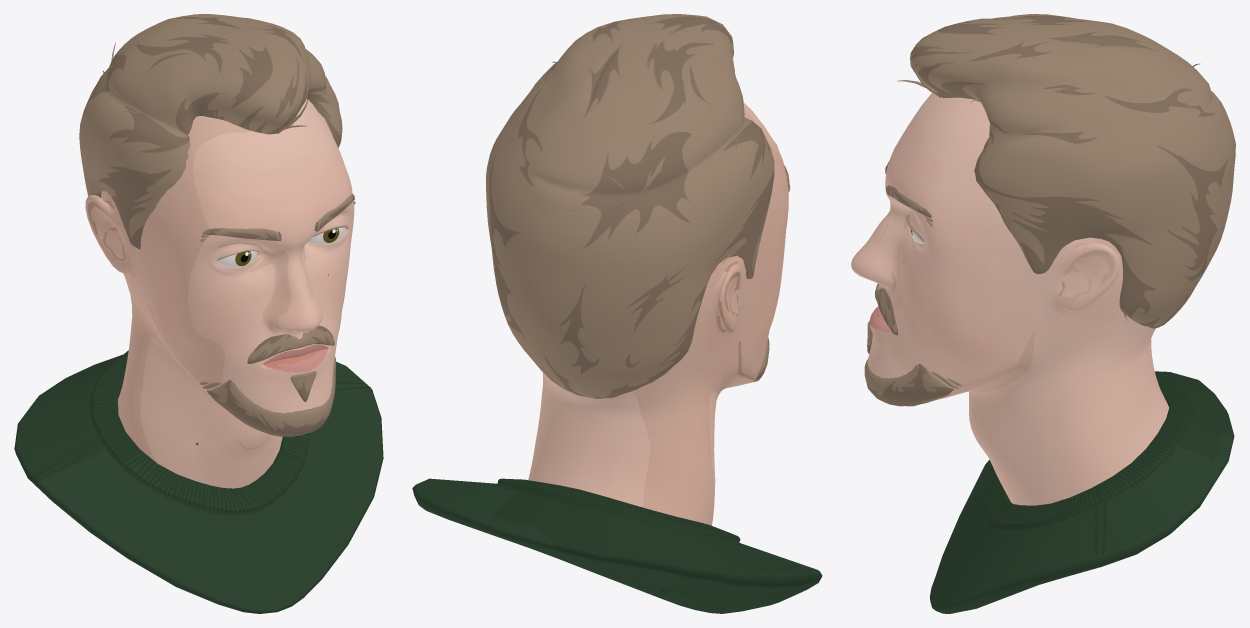
3 views of the same model, side by side, from view 1: azimuth 30°, elevation 25°; view 2: azimuth 150°, elevation 25°; view 3: azimuth 270°, elevation 25° (orthographic). The views are drawn at different scales.
Visible parts, largest first — view 1: Head_High, Shirt, Hair, Chin, Moustach, Eye_Brow_R; view 2: Hair, Head_High, Shirt; view 3: Head_High, Hair, Shirt, Chin, Moustach.
Part boxes in pixels (x1,y1,x2,y2): Head_High: (85,99,354,488); Shirt: (14,350,383,613); Hair: (79,14,342,249); Chin: (200,357,336,436); Moustach: (247,325,334,363); Eye_Brow_R: (200,228,281,242); Hair: (486,14,774,398); Head_High: (528,103,788,525); Shirt: (412,478,822,613); Head_High: (851,93,1169,505); Hair: (897,14,1235,328); Shirt: (930,371,1234,613); Chin: (864,359,961,406); Moustach: (875,283,897,335).
Bounding box in the file's own units: 0.2785 × 0.4178 × 0.2513.
Materials: 4 (4 with a texture image).
